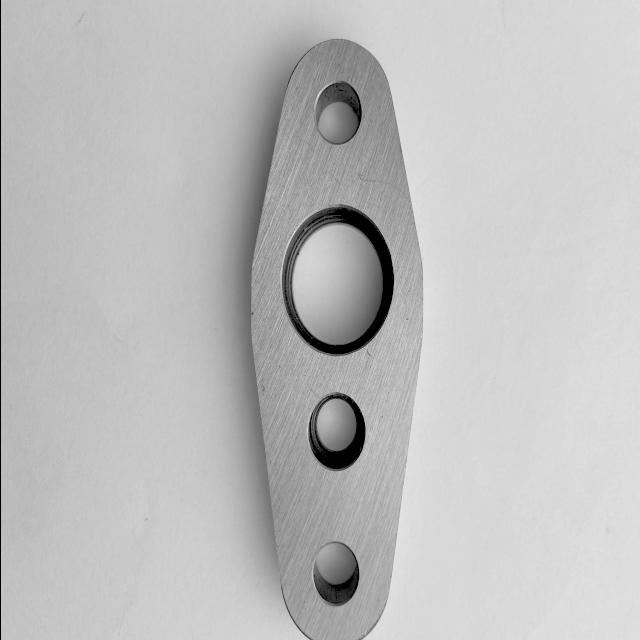chap: (363, 346, 373, 361), (356, 456, 361, 464)
lines: (355, 173, 410, 205), (401, 286, 412, 304)
